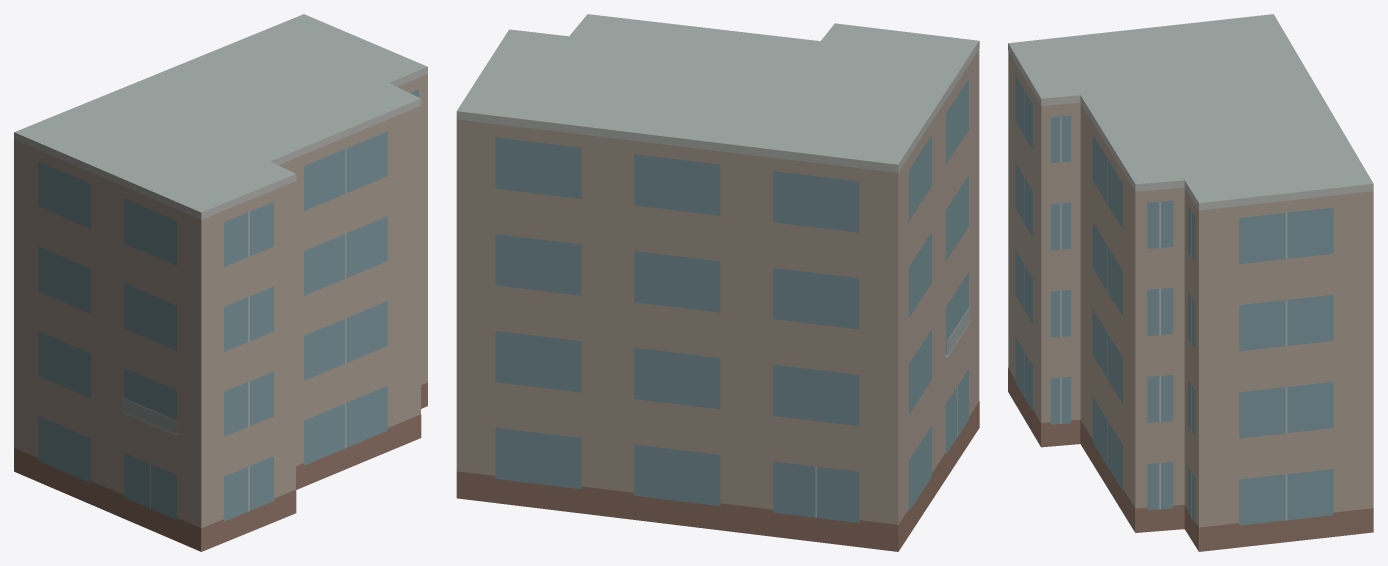
File: survey-upis-32715371.glb
3 views of the same model, side by side, from view 1: azimuth 30°, elevation 25°; view 2: azimuth 150°, elevation 25°; view 3: azimuth 270°, elevation 25° (orthographic). The views are drawn at different scales.
Parts seen in each view (by area): view 1: survey-upis-32715371.tmp; view 2: survey-upis-32715371.tmp; view 3: survey-upis-32715371.tmp.
Boxes of the visible parts, x1=… form: survey-upis-32715371.tmp: x1=14, y1=14, x2=427, y2=551; survey-upis-32715371.tmp: x1=456, y1=14, x2=979, y2=551; survey-upis-32715371.tmp: x1=1008, y1=14, x2=1373, y2=551.
Bounding box in the file's own units: 13.46 × 11.55 × 10.98.
